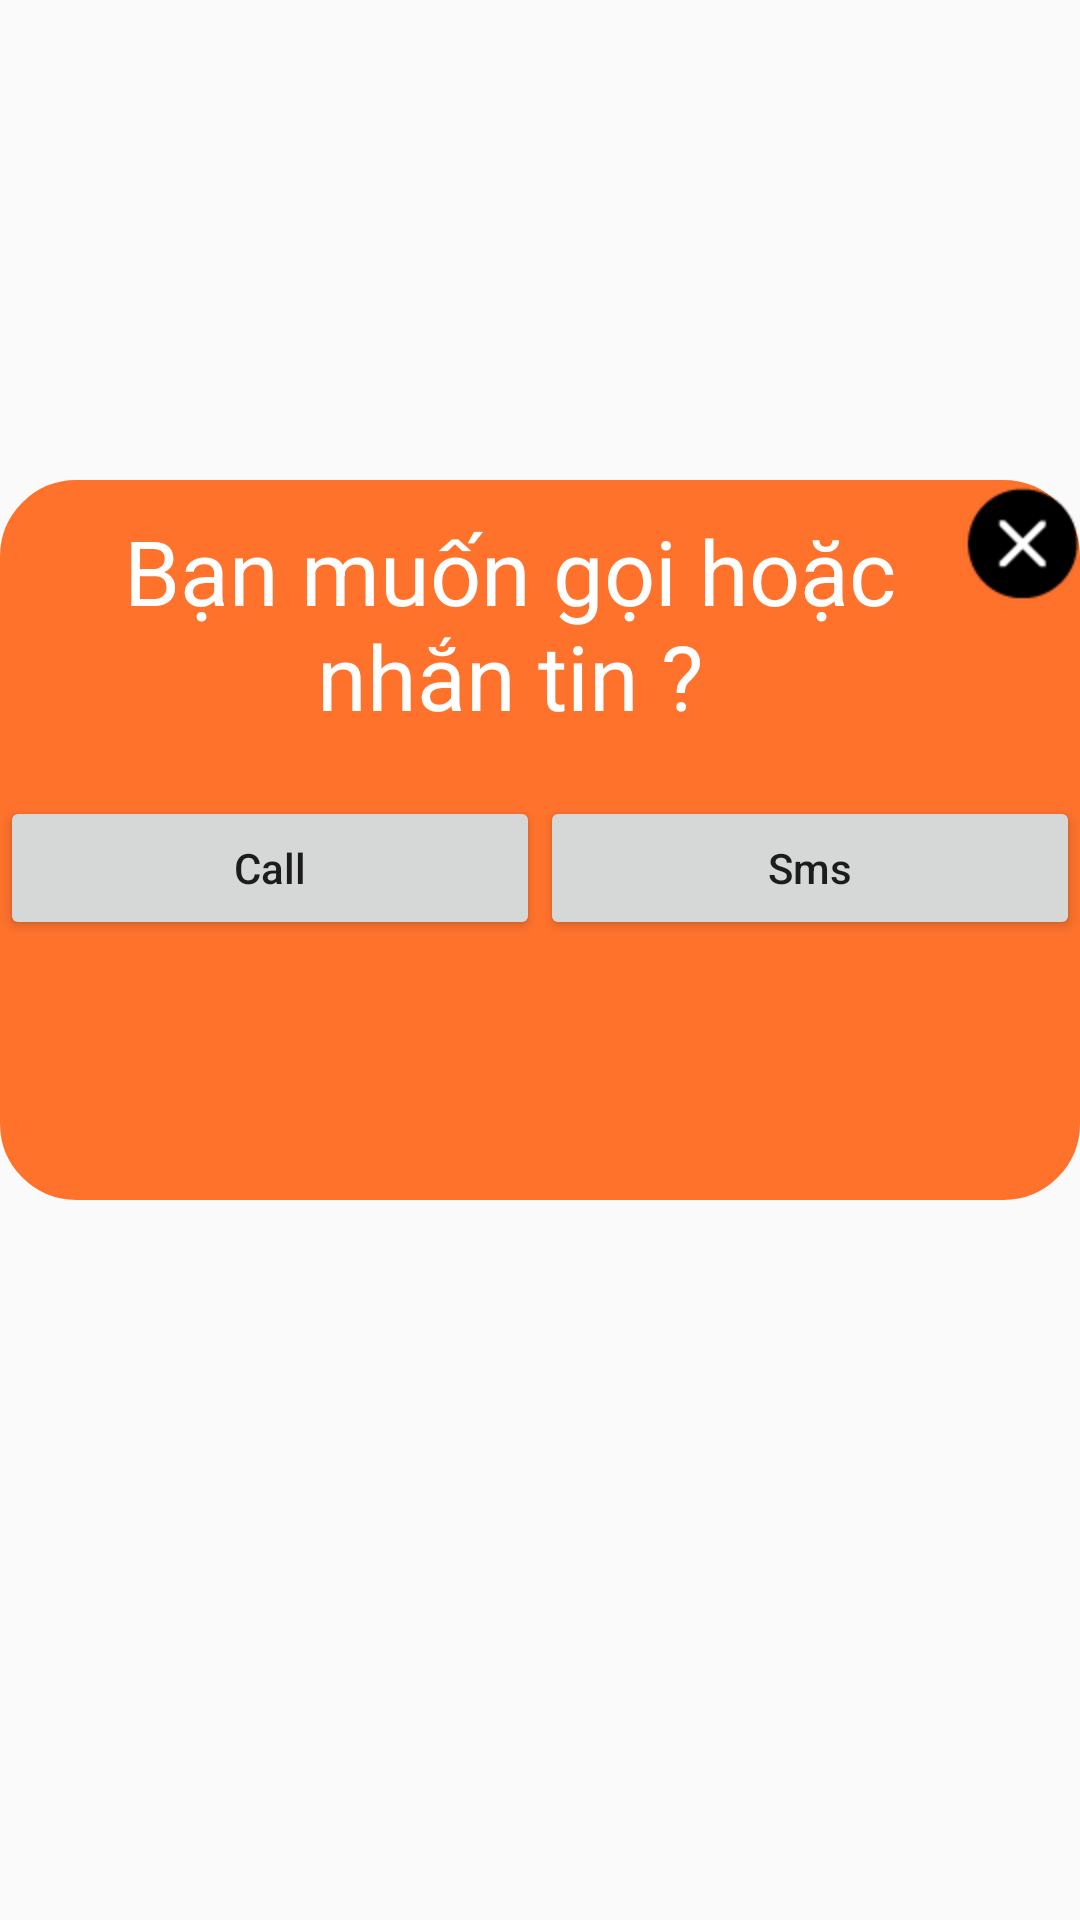

Screen size 1080w x 1920h. Icon name, then its center in pixels as [x,y]:
close: [1023,539]
